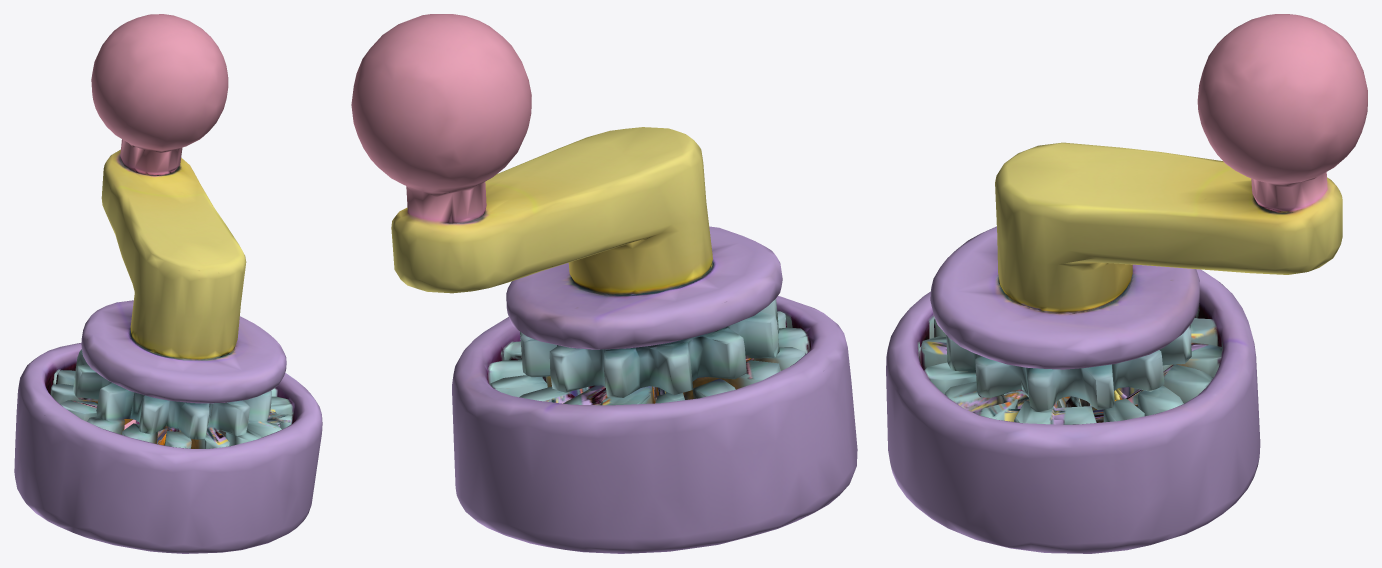
3 views of the same model, side by side, from view 1: azimuth 30°, elevation 25°; view 2: azimuth 150°, elevation 25°; view 3: azimuth 270°, elevation 25° (orthographic). The views are drawn at different scales.
Visible parts, largest first — view 1: repaired; view 2: repaired; view 3: repaired.
Part boxes in pixels (<box>): repaired: <box>14,14,322,553</box>; repaired: <box>351,14,857,553</box>; repaired: <box>886,14,1367,553</box>.
Bounding box in the file's own units: 0.6965 × 0.9995 × 0.8618.
1 material, 1 textured.
